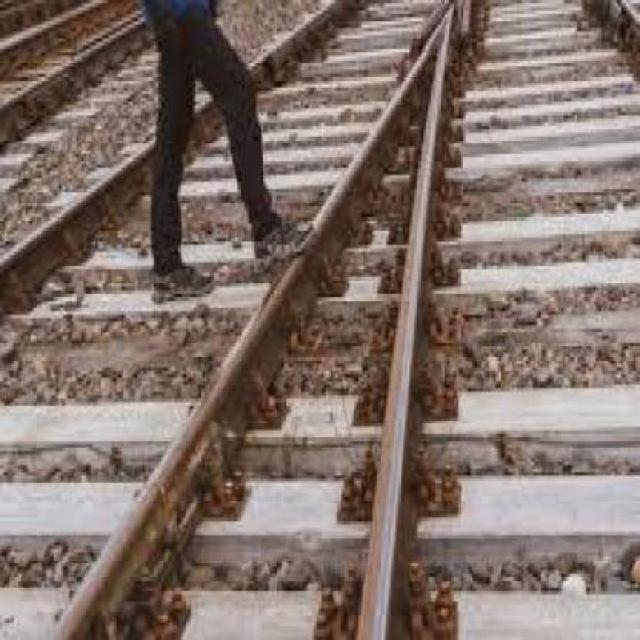danger: (123, 0, 301, 318)
rail: (0, 1, 639, 640)
